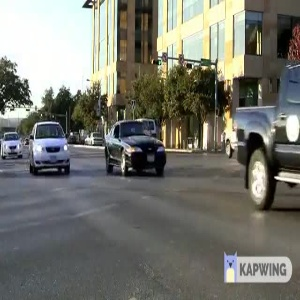car: (94, 119, 170, 175), (24, 116, 73, 173), (1, 129, 24, 162)
